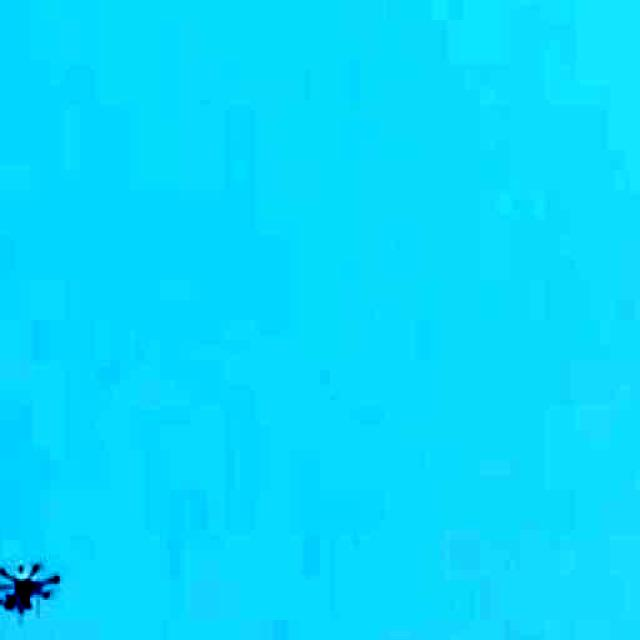bird: (0, 556, 61, 621)
